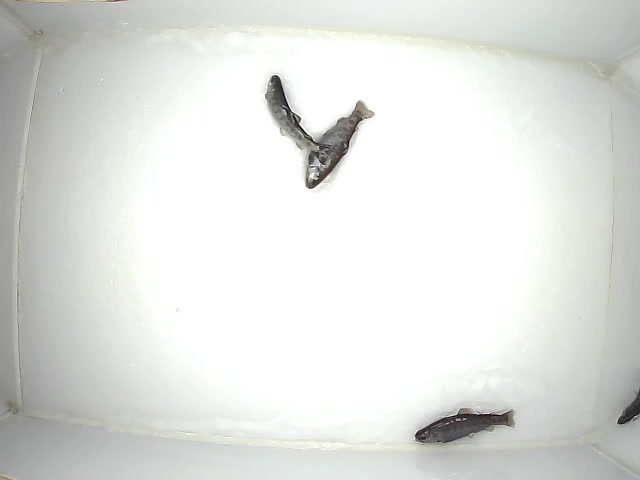fish: (304, 99, 375, 190), (264, 71, 329, 156), (413, 405, 516, 444)
